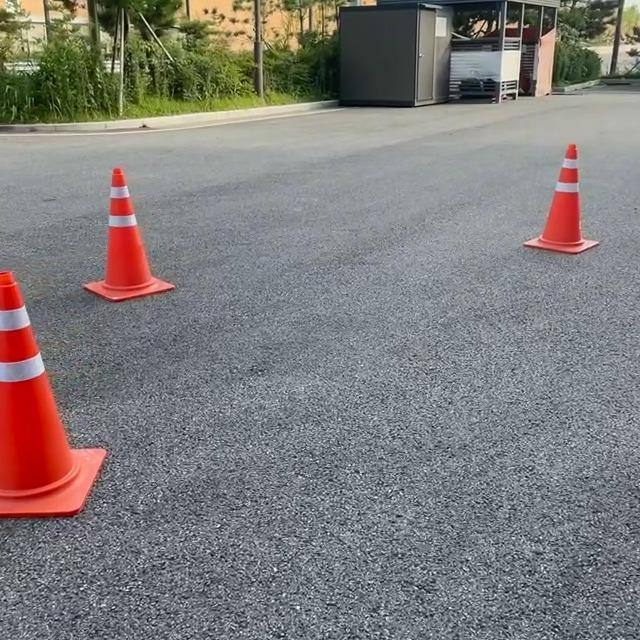fallen_object: (0, 246, 129, 562), (60, 133, 197, 347), (487, 119, 609, 321)
